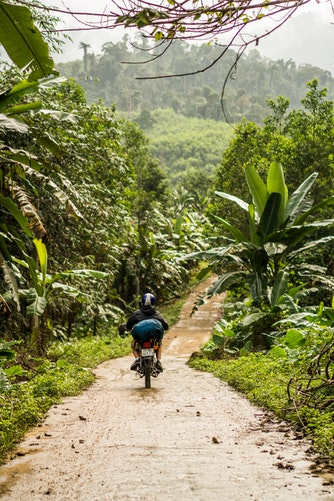helmet: (135, 292, 163, 317)
